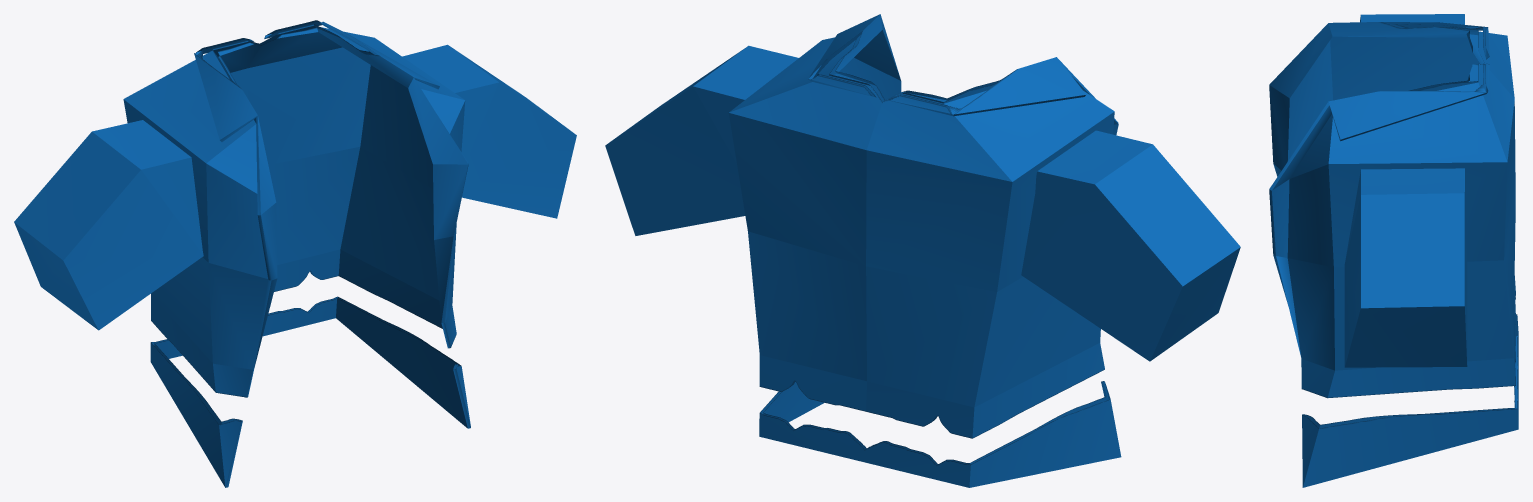
Rendered from Songkran Jacket.fbx.
3 renders of one model, left to right at view 1: azimuth 30°, elevation 25°; view 2: azimuth 150°, elevation 25°; view 3: azimuth 270°, elevation 25°, orthographic. The views are drawn at different scales.
Visible parts, largest first — view 1: Cloth_Body.001, Cloth_Right_Arm, Cloth_Left_Arm; view 2: Cloth_Body.001, Cloth_Right_Arm, Cloth_Left_Arm; view 3: Cloth_Body.001, Cloth_Left_Arm, Cloth_Right_Arm.
Boxes of the visible parts, x1,y1,x2,y2 form: Cloth_Body.001: (123,20,470,487); Cloth_Right_Arm: (14,120,203,330); Cloth_Left_Arm: (402,44,576,218); Cloth_Body.001: (728,14,1121,487); Cloth_Right_Arm: (1021,130,1240,361); Cloth_Left_Arm: (605,45,798,235); Cloth_Body.001: (1269,22,1518,487); Cloth_Left_Arm: (1344,168,1467,367); Cloth_Right_Arm: (1360,14,1464,24).
Bounding box in the file's own units: 68.19 × 46.8 × 27.81.
